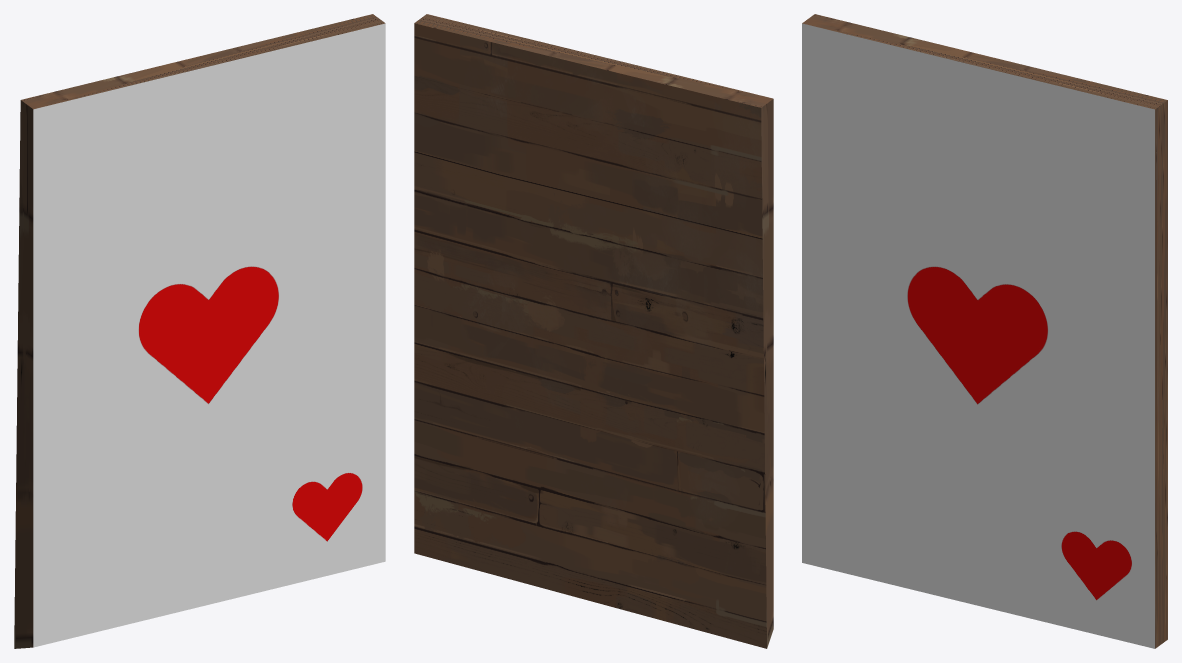
File: S-NonTarget3.fbx
3 views of the same model, side by side, from view 1: azimuth 30°, elevation 25°; view 2: azimuth 150°, elevation 25°; view 3: azimuth 330°, elevation 25° (orthographic).
Visible parts, largest first — view 1: Cube; view 2: Cube; view 3: Cube.
Part boxes in pixels (x1,y1,x2,y2): Cube: (14,14,385,648); Cube: (414,14,773,648); Cube: (802,14,1167,648).
Size of the model in its own units: 767 by 1119 by 48.31.
